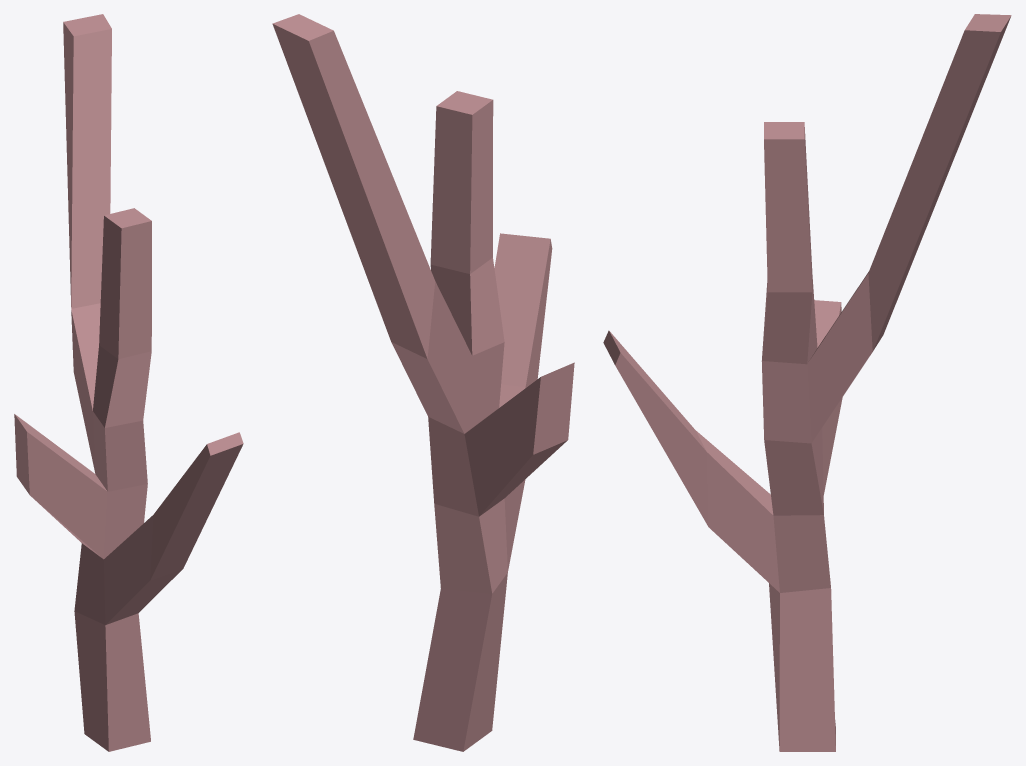
Rendered from tough_tree.glb.
The picture shows the model from 3 angles, left to right: view 1: azimuth 30°, elevation 25°; view 2: azimuth 150°, elevation 25°; view 3: azimuth 270°, elevation 25°; orthographic projection. The views are drawn at different scales.
Visible parts, largest first — view 1: Cylinder.077; view 2: Cylinder.077; view 3: Cylinder.077.
Boxes of the visible parts, x1,y1,x2,y2 form: Cylinder.077: (14, 14, 243, 751); Cylinder.077: (272, 14, 574, 751); Cylinder.077: (603, 14, 1011, 751).
Size of the model in its own units: 0.3087 by 1.15 by 0.5691.
